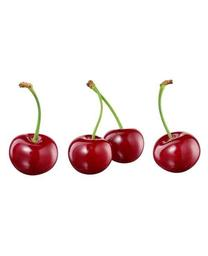cherry: (152, 131, 201, 173), (9, 133, 57, 175), (68, 135, 111, 175), (104, 129, 144, 164)
